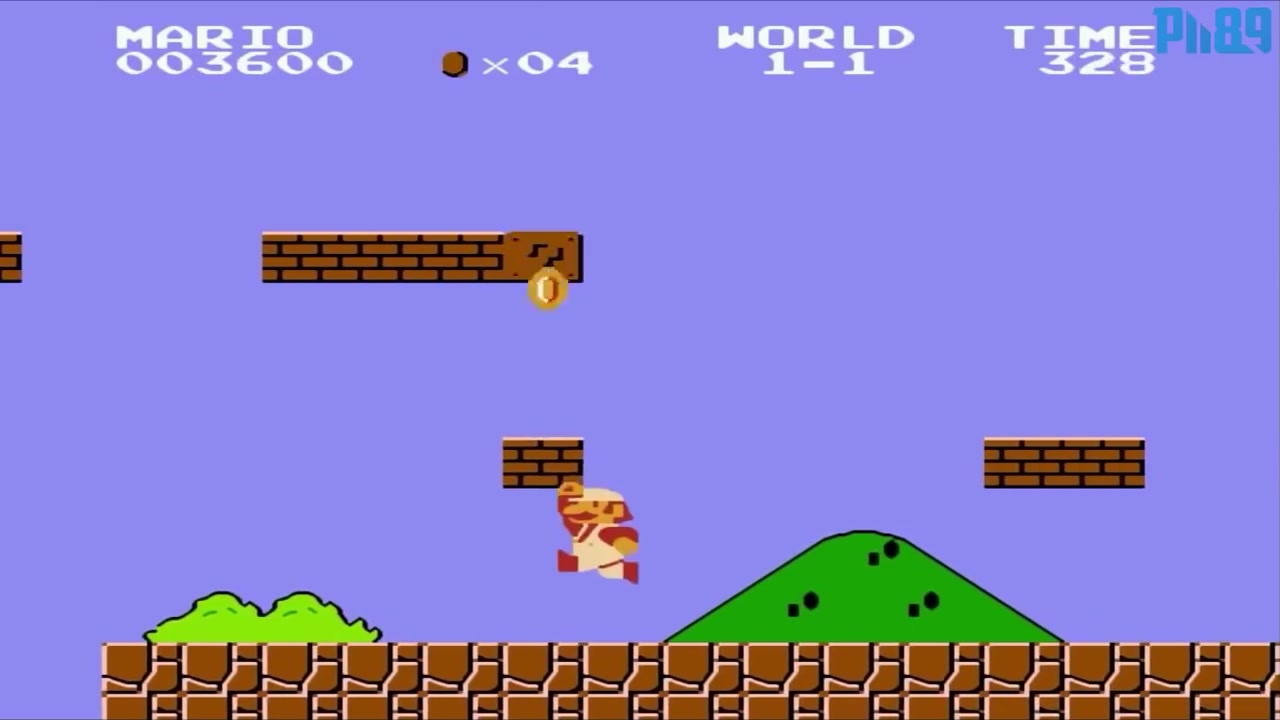mario: (551, 474, 638, 593)
